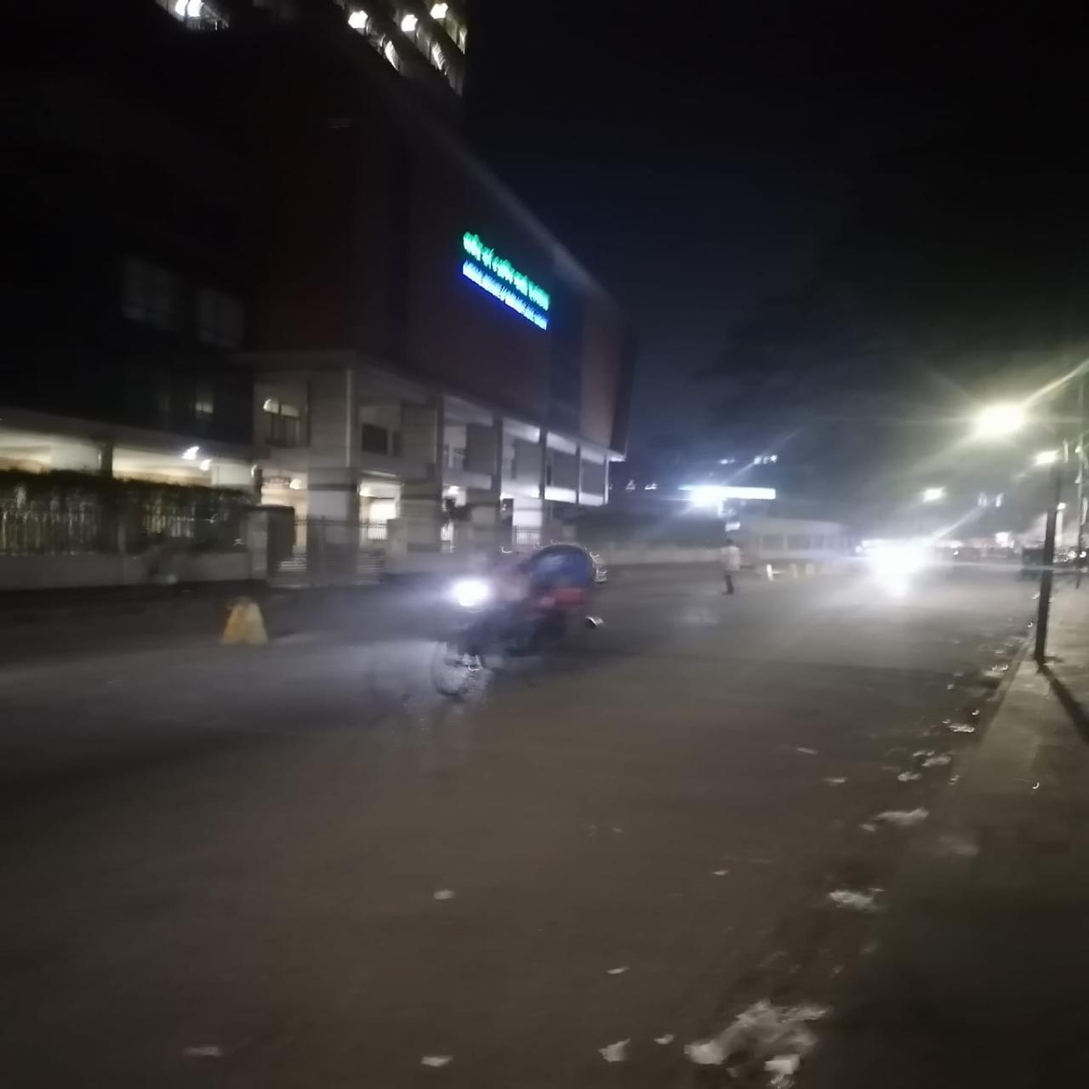person: (713, 538, 747, 600)
